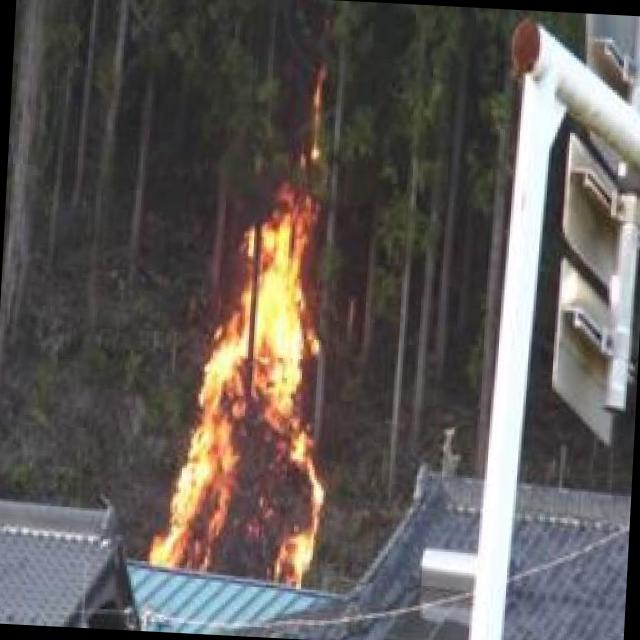Fire: (159, 197, 343, 582)
